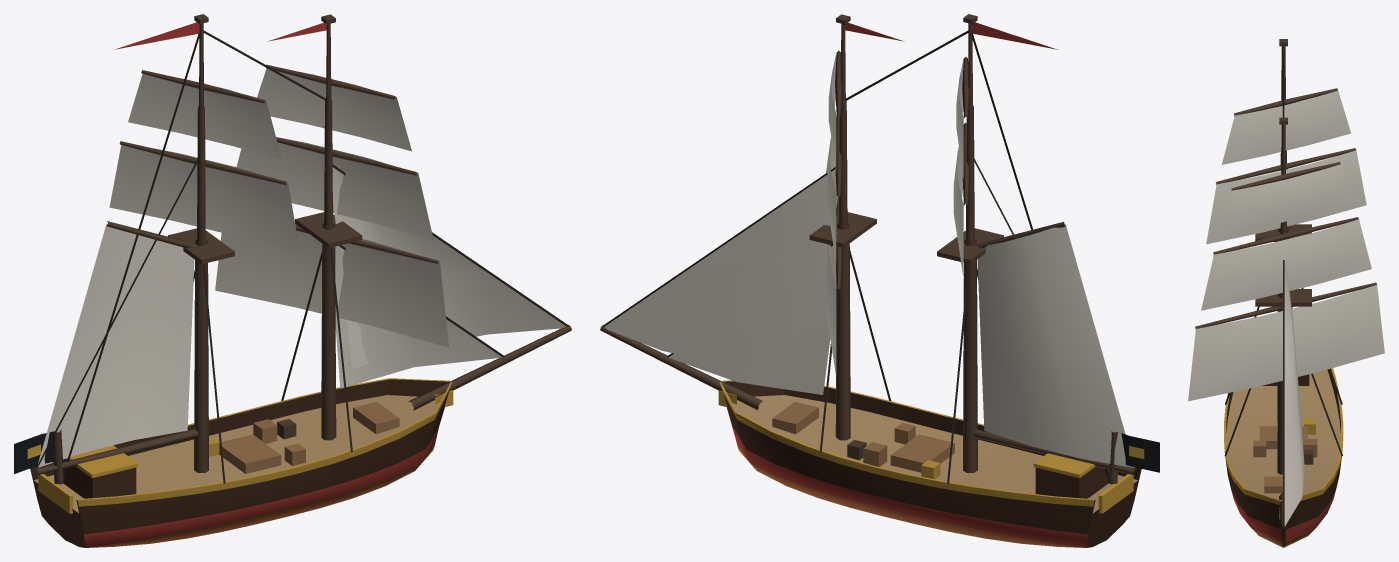
File: hull_gold_brig_large.glb
3 views of the same model, side by side, from view 1: azimuth 30°, elevation 25°; view 2: azimuth 150°, elevation 25°; view 3: azimuth 270°, elevation 25° (orthographic). The views are drawn at different scales.
Parts seen in each view (by area): view 1: sail_extra, hull, sail_main, sail_jib, mast, deck, rigging, yards, boom_spar, flag; view 2: hull, sail_jib, sail_main, mast, deck, sail_extra, rigging, flag, yards, boom_spar; view 3: sail_extra, hull, sail_jib, yards, mast, deck, rigging.
Part boxes in pixels (x1,y1,x2,y2): sail_extra: (109,68,448,347); hull: (30,378,453,547); sail_main: (38,224,194,467); sail_jib: (332,167,565,388); mast: (51,14,571,484); deck: (63,402,399,498); rigging: (63,30,568,483); yards: (119,64,438,264); boom_spar: (36,157,198,474); flag: (14,22,326,473); hull: (718,380,1141,547); sail_jib: (605,169,838,394); sail_main: (977,224,1134,468); mast: (600,14,1118,484); deck: (772,402,1108,498); sail_extra: (823,54,963,376); rigging: (603,30,1108,483); flag: (845,22,1159,472); yards: (835,50,969,289); boom_spar: (972,157,1135,475); sail_extra: (1188,90,1384,401); hull: (1224,368,1343,547); sail_jib: (1284,263,1304,525); yards: (1195,88,1376,328); mast: (1255,39,1311,528); deck: (1253,374,1317,493); rigging: (1224,53,1342,528).
Size of the model in its own units: 25.26 by 22.15 by 9.18.
